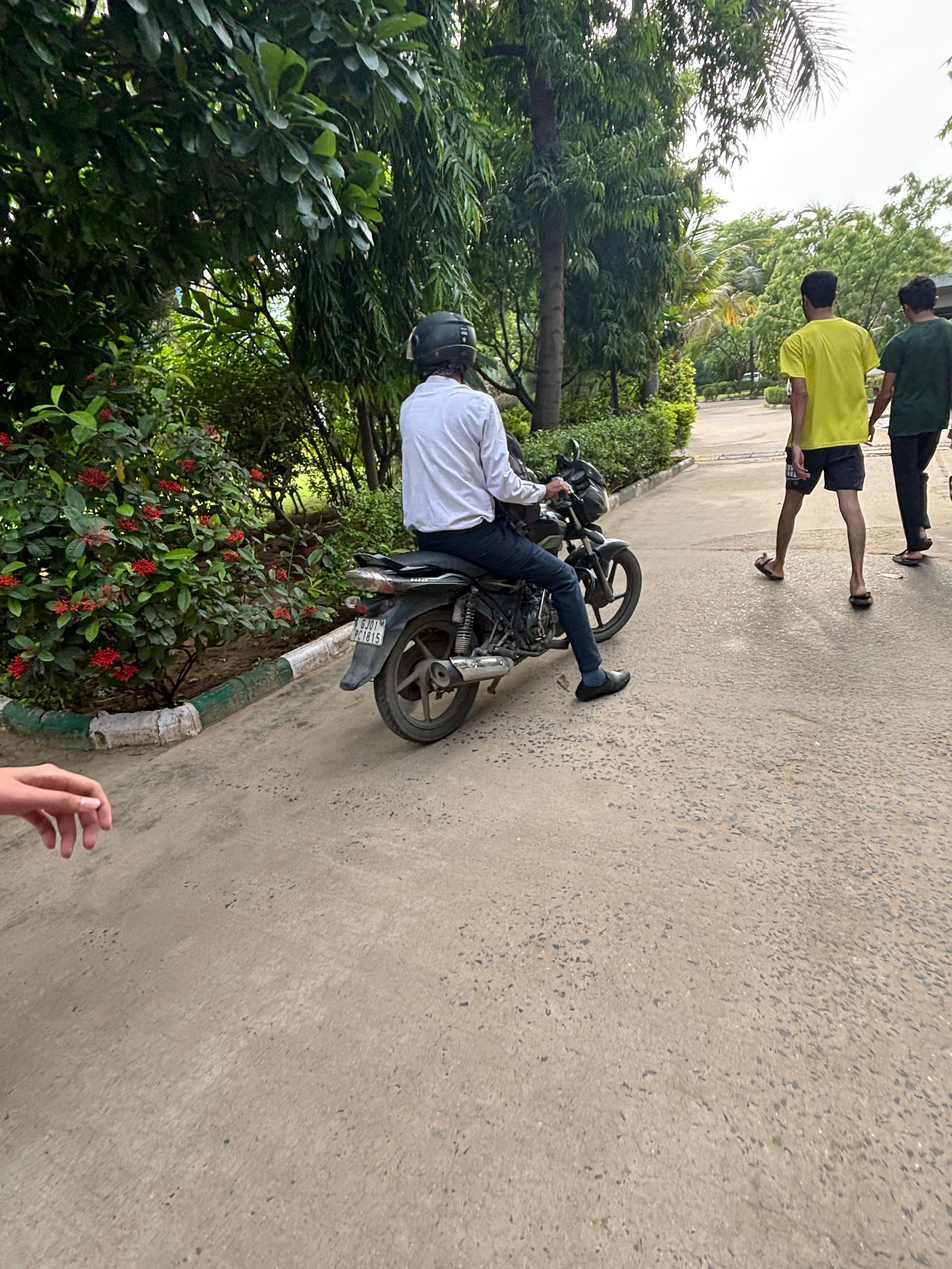BikeWithRider: (327, 299, 652, 754)
Helmet: (400, 302, 489, 394)
